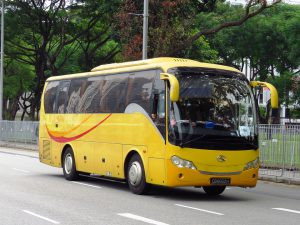autobus: (35, 55, 283, 173)
